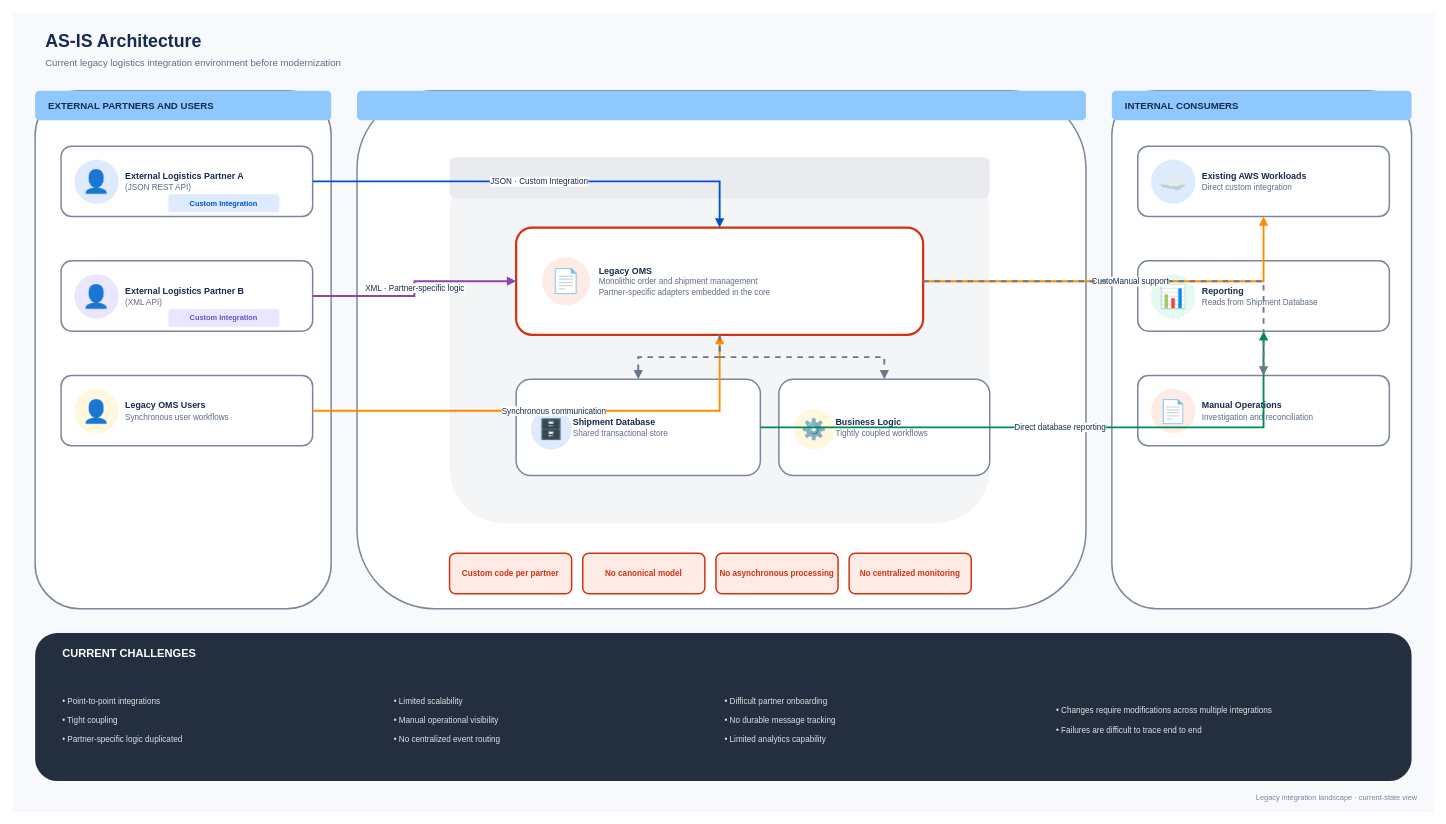
Some shapes in this 1446 by 824 pixel diagram are drawn without their labels. The shapes that lost their labels are listed below. From the top down, each one's centre as x and y in pixels, then its label:
the point at 721,105: ABC WAREHOUSING & LOGISTICS · LEGACY CORE
the point at 719,177: ABC Warehousing & Logistics
